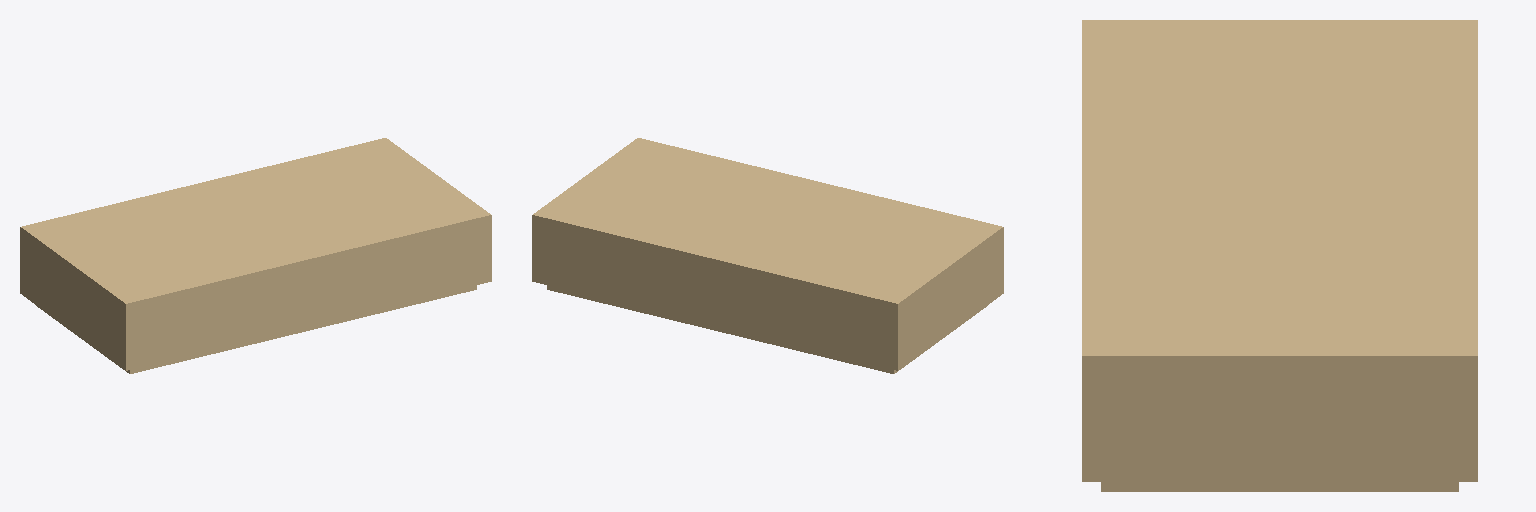
robot.urdf — 3069__tan:
<?xml version="1.0"?>
<robot name="3069__tan">
  <link name="3069__tan">
    <inertial>
      <origin xyz="0.000000 0.000000 -0.001307" rpy="0 0 0"/>
      <mass value="0.000319"/>
      <inertia ixx="2.243572880e-09" ixy="-0.000000000e+00" ixz="-0.000000000e+00" iyy="7.739995280e-09" iyz="-0.000000000e+00" izz="9.511276544e-09"/>
    </inertial>
    <visual>
      <geometry>
        <mesh filename="../meshes/visual/3069.obj" scale="1 1 1"/>
      </geometry>
      <material name="3069__tan_color">
        <color rgba="0.860 0.770 0.610 1.000"/>
      </material>
    </visual>
    <collision>
      <geometry>
        <mesh filename="../meshes/collision/3069_hull.obj" scale="1 1 1"/>
      </geometry>
    </collision>
  </link>
</robot>

--- Render facts (derived) ---
The picture shows the robot from 3 angles, left to right: view 1: azimuth 30°, elevation 25°; view 2: azimuth 150°, elevation 25°; view 3: azimuth 270°, elevation 25°; orthographic projection.
Model 3069__tan with 1 links and 0 joints (none), rooted at 3069__tan, posed every joint at zero.
Links seen in each view (by area): view 1: 3069__tan; view 2: 3069__tan; view 3: 3069__tan.
Link boxes in pixels (<box>): 3069__tan: <box>20,138,491,373</box>; 3069__tan: <box>532,138,1003,373</box>; 3069__tan: <box>1082,20,1477,491</box>.
Size in the robot's own frame: 0.016 by 0.008 by 0.0032 metres.
1 mesh visuals loaded from 1 distinct referenced files (1 OBJ).
